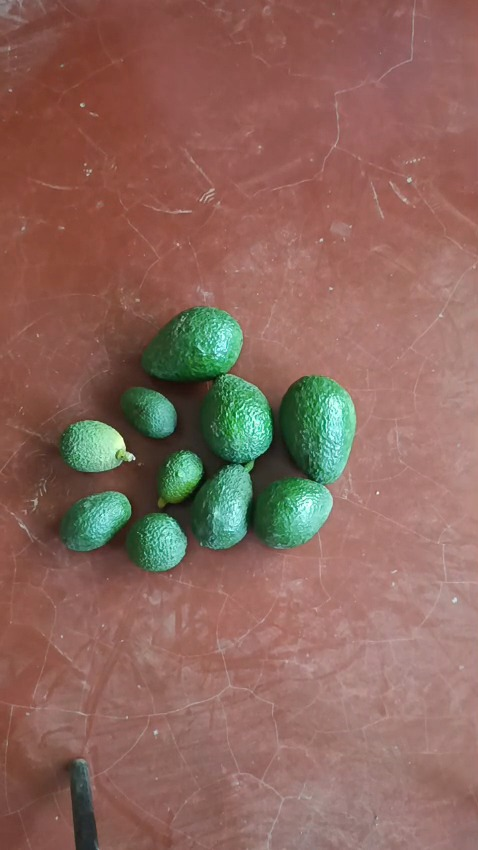Primera: (278, 375, 356, 483), (141, 307, 243, 381), (198, 374, 273, 465)
Segunda: (252, 477, 332, 549), (191, 463, 256, 549)
Tercera: (58, 491, 132, 552), (124, 512, 188, 570), (58, 420, 127, 472), (119, 387, 177, 439), (156, 449, 203, 506)
